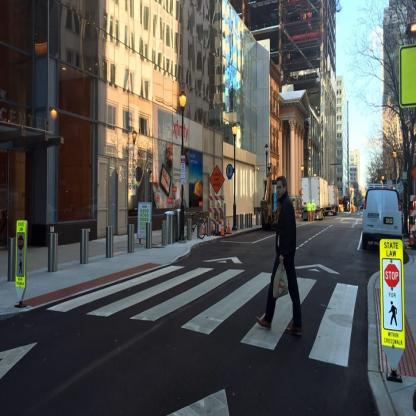Crosswalk: (33, 264, 369, 372)
